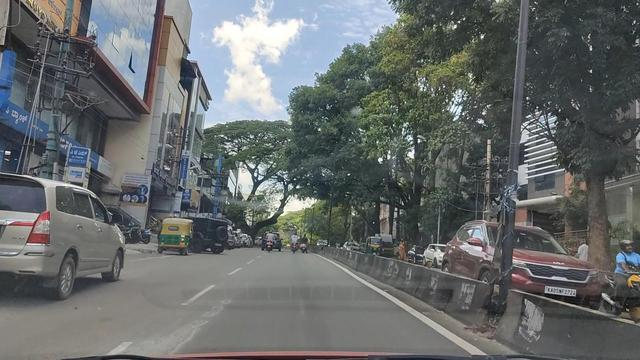LMV: (6, 169, 134, 303)
RoadDamages: (126, 291, 243, 350)
